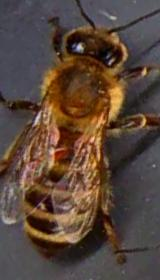varroa_mite: (46, 140, 72, 165)
